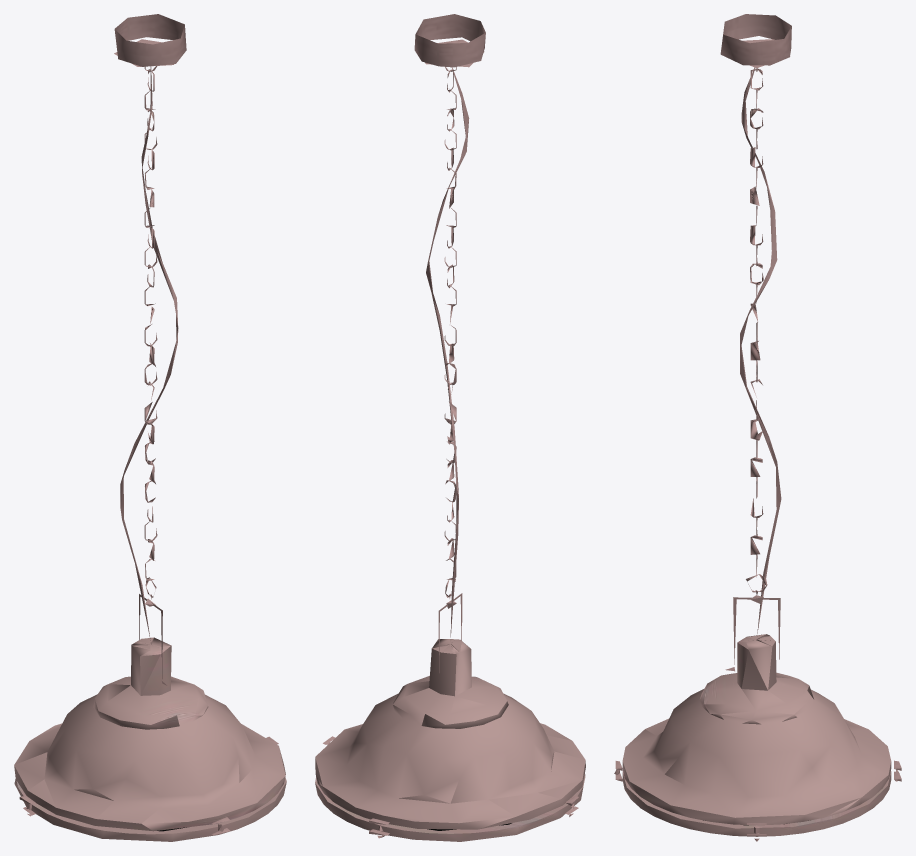
Rendered from LightTop0009.obj.
3 renders of one model, left to right at view 1: azimuth 30°, elevation 25°; view 2: azimuth 150°, elevation 25°; view 3: azimuth 270°, elevation 25°, orthographic.
Bounding box in the file's own units: 0.413 × 1.19 × 0.411.
Materials: 1 (1 with a texture image).
